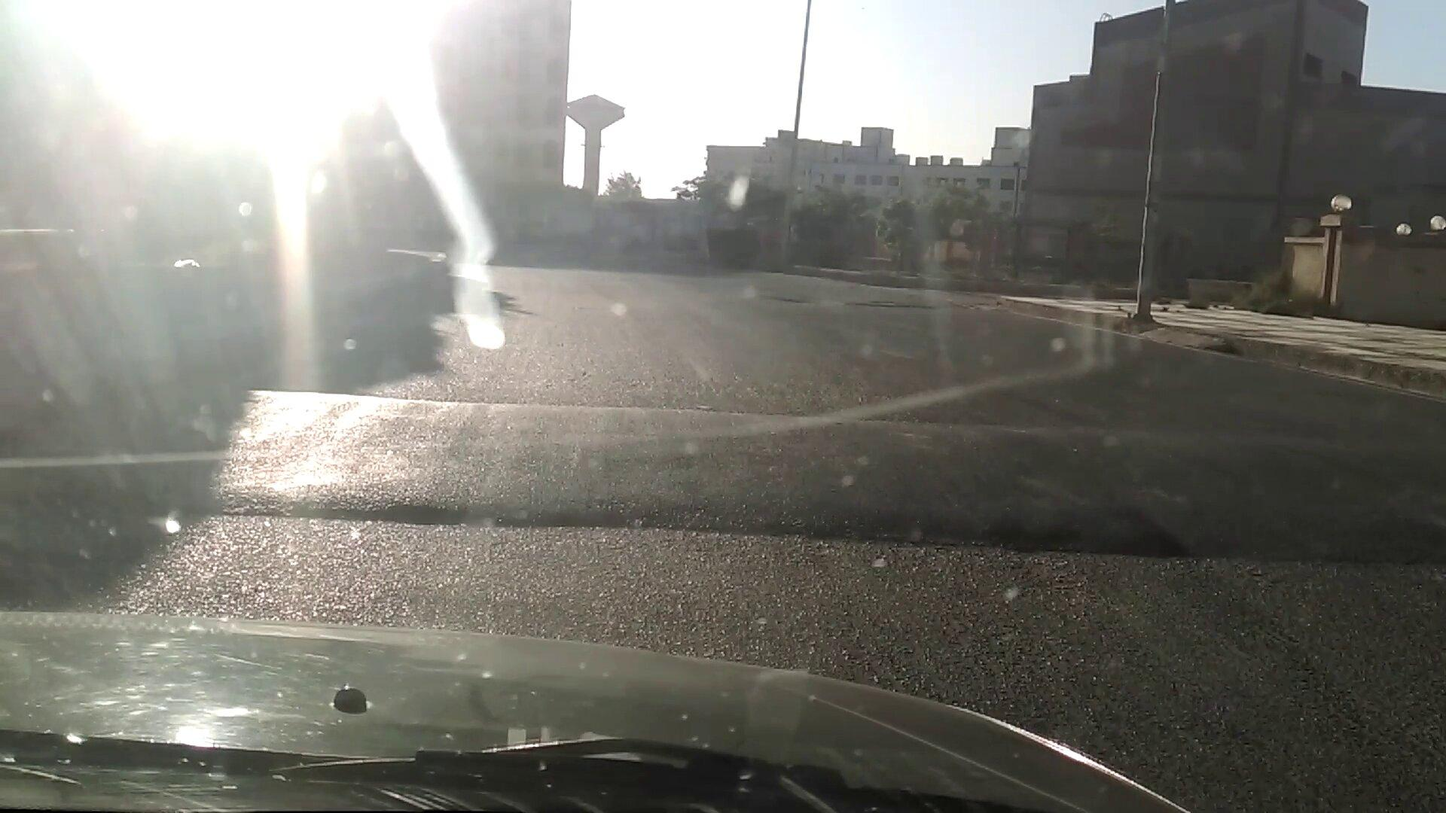Bump: (228, 393, 1446, 578)
